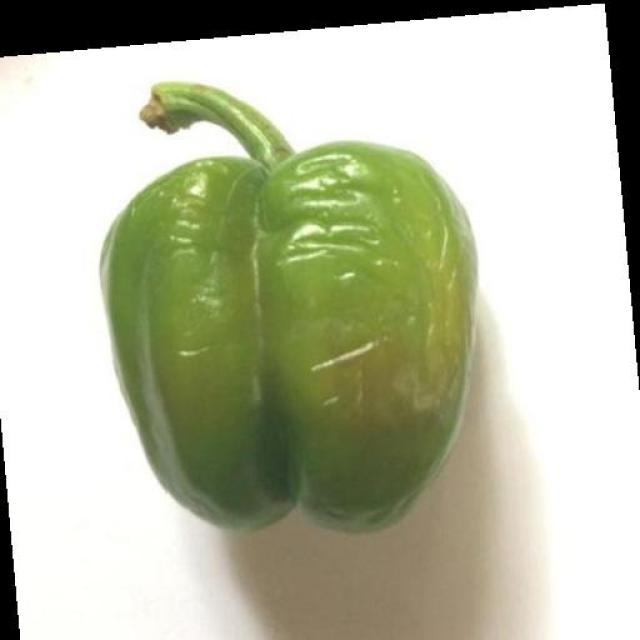Stale_Capsicum: (142, 142, 479, 482)
